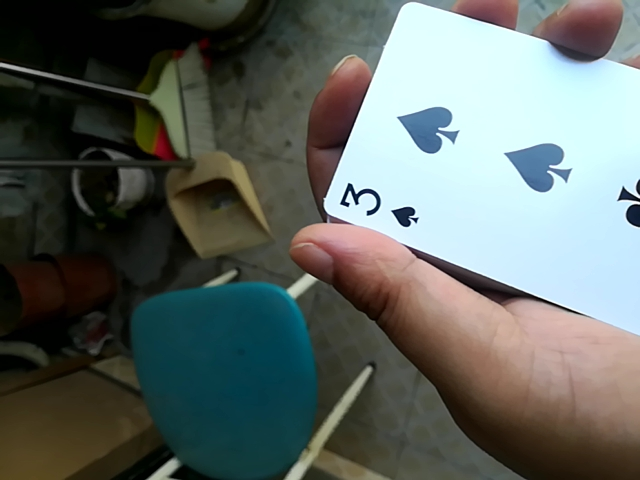ht 3: (311, 6, 636, 353)
